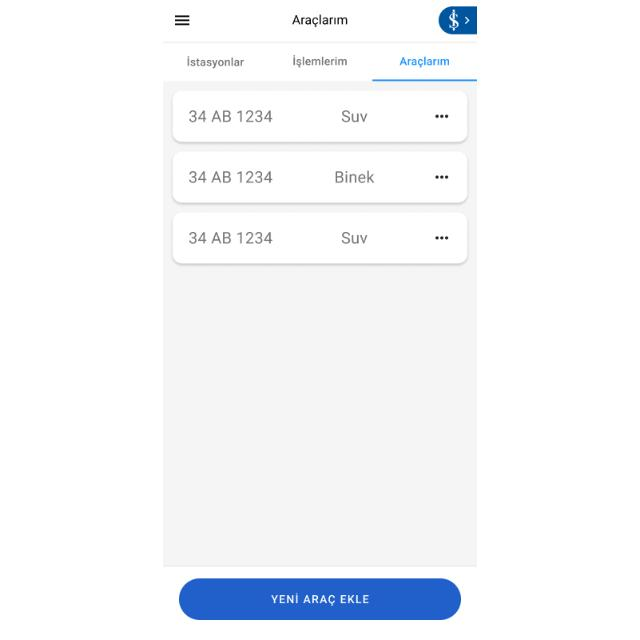QLabel: (184, 106, 274, 126), (184, 168, 274, 186), (184, 230, 274, 246), (268, 593, 370, 607), (182, 52, 248, 72), (290, 11, 350, 29), (331, 168, 377, 188), (392, 55, 456, 69), (287, 55, 349, 69), (338, 107, 370, 125), (338, 230, 369, 248), (430, 232, 452, 244), (432, 110, 451, 122), (431, 172, 451, 182)
VAppBar: (163, 1, 477, 44)
VBtn: (179, 578, 461, 620)
VCard: (170, 210, 470, 266), (171, 152, 469, 206), (172, 90, 468, 144)
VFooter: (163, 564, 477, 640)
VIcon: (172, 12, 190, 28)
VImg: (438, 6, 478, 34)
VTabs: (163, 46, 477, 274)
